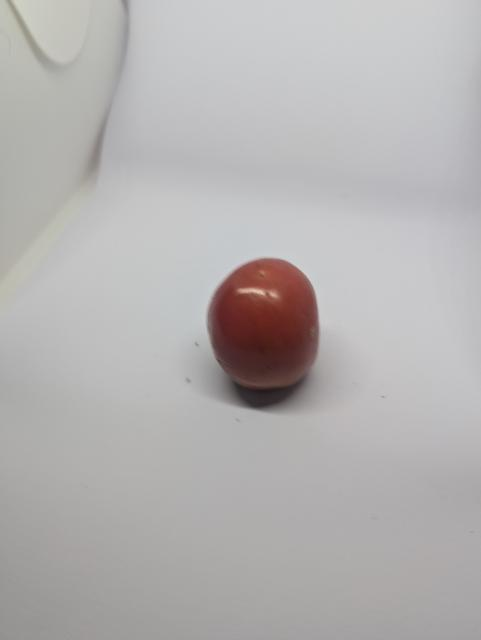red: (204, 257, 326, 393)
